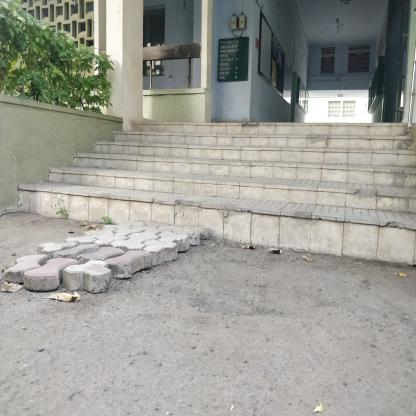stairs: (140, 126, 358, 266)
